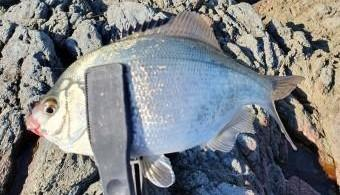fish: (24, 11, 304, 189)
